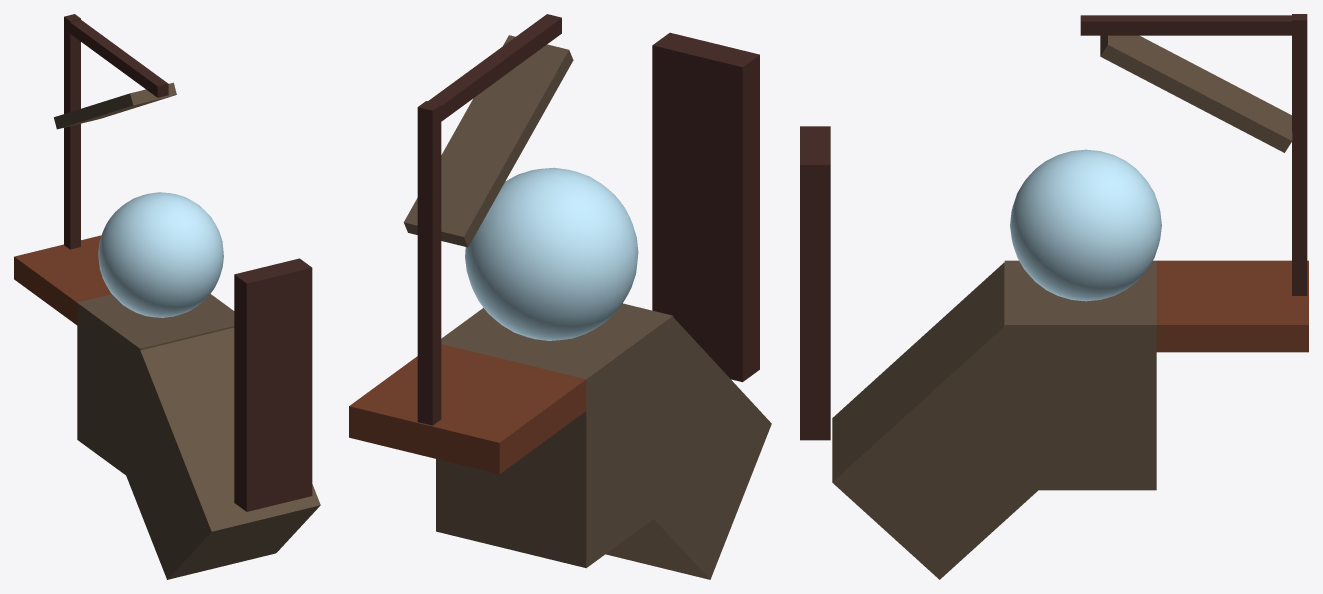
File: Section_1A_3_Contraption.fbx
The picture shows the model from 3 angles, left to right: view 1: azimuth 30°, elevation 25°; view 2: azimuth 150°, elevation 25°; view 3: azimuth 270°, elevation 25°; orthographic projection. The views are drawn at different scales.
Visible parts, largest first — view 1: Cube__30_, Bridge, Snowball, Cube__31_, Cube__32_, Cube__33_, Cube__34_, Cube__35_; view 2: Cube__31_, Bridge, Cube__30_, Snowball, Cube__32_, Cube__35_, Cube__33_, Cube__34_; view 3: Cube__30_, Cube__31_, Snowball, Cube__32_, Bridge, Cube__35_, Cube__33_, Cube__34_.
Boxes of the visible parts, x1,y1,x2,y2 form: Cube__30_: (97, 327, 320, 579); Bridge: (234, 258, 312, 511); Snowball: (98, 192, 223, 317); Cube__31_: (77, 294, 234, 484); Cube__32_: (14, 235, 111, 325); Cube__33_: (64, 14, 80, 249); Cube__34_: (70, 20, 168, 97); Cube__35_: (54, 82, 176, 129); Cube__31_: (436, 303, 673, 568); Bridge: (652, 32, 759, 382); Cube__30_: (606, 317, 771, 579); Snowball: (465, 167, 638, 340); Cube__32_: (349, 344, 586, 474); Cube__35_: (403, 35, 573, 247); Cube__33_: (417, 101, 441, 425); Cube__34_: (428, 14, 561, 121); Cube__30_: (832, 262, 1037, 579); Cube__31_: (1004, 260, 1156, 490); Snowball: (1010, 149, 1161, 301); Cube__32_: (1156, 260, 1308, 352); Bridge: (800, 126, 830, 440); Cube__35_: (1100, 35, 1292, 152); Cube__33_: (1292, 14, 1307, 295); Cube__34_: (1080, 15, 1293, 35).
Bounding box in the file's own units: 500 × 1926 × 1673.
